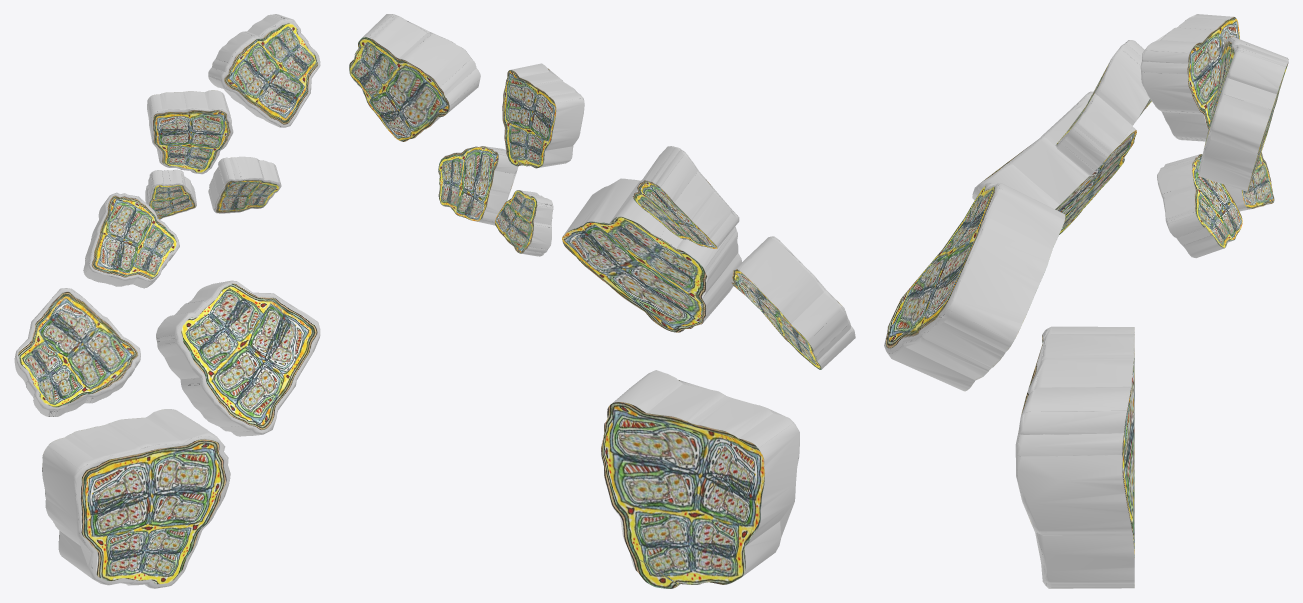
3 renders of one model, left to right at view 1: azimuth 30°, elevation 25°; view 2: azimuth 150°, elevation 25°; view 3: azimuth 270°, elevation 25°, orthographic. The views are drawn at different scales.
Visible parts, largest first — view 1: pom; view 2: pom; view 3: pom.
Boxes of the visible parts, <box> form: pom: <box>14,14,320,588</box>; pom: <box>349,14,855,588</box>; pom: <box>884,14,1288,588</box>.
Size of the model in its own units: 579 by 729 by 403.
Materials: 1 (1 with a texture image).
